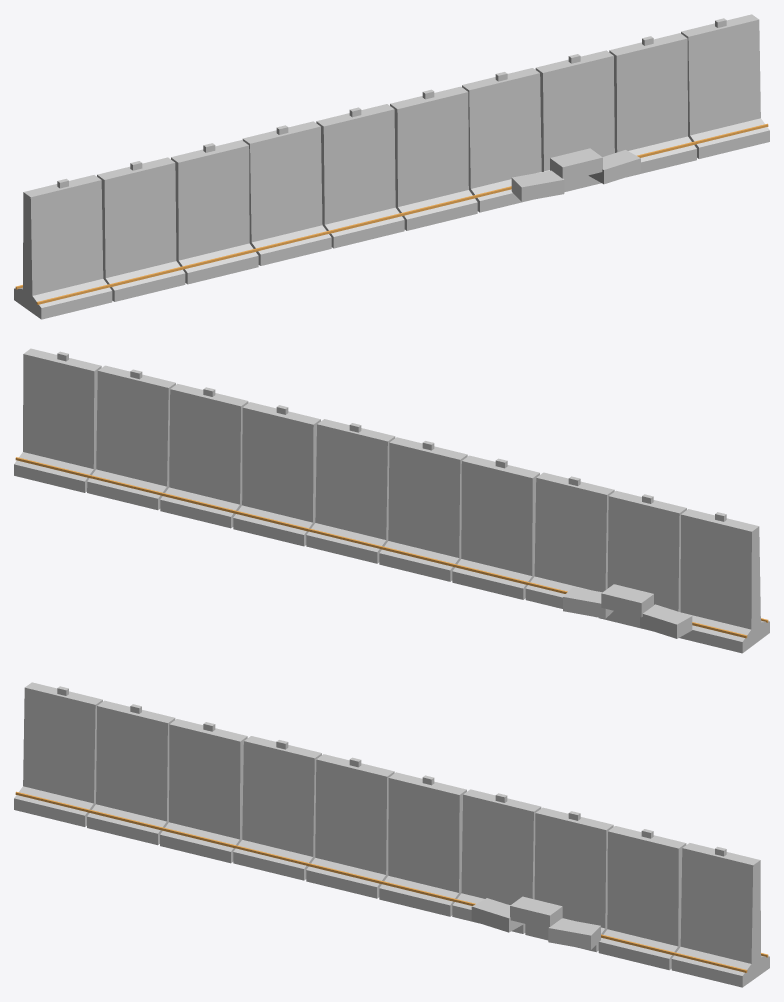
File: MilitaryWall.glb
3 views of the same model, one above another, from view 1: azimuth 30°, elevation 25°; view 2: azimuth 150°, elevation 25°; view 3: azimuth 330°, elevation 25° (orthographic).
Visible parts, largest first — view 1: Body, Glow; view 2: Body, Glow; view 3: Body, Glow.
Part boxes in pixels (x1,y1,x2,y2): Body: (14,14,769,319); Glow: (15,123,768,304); Body: (14,348,769,653); Glow: (15,457,768,638); Body: (14,682,769,987); Glow: (15,791,768,972).
Bounding box in the file's own units: 40 × 6.31 × 5.26.
